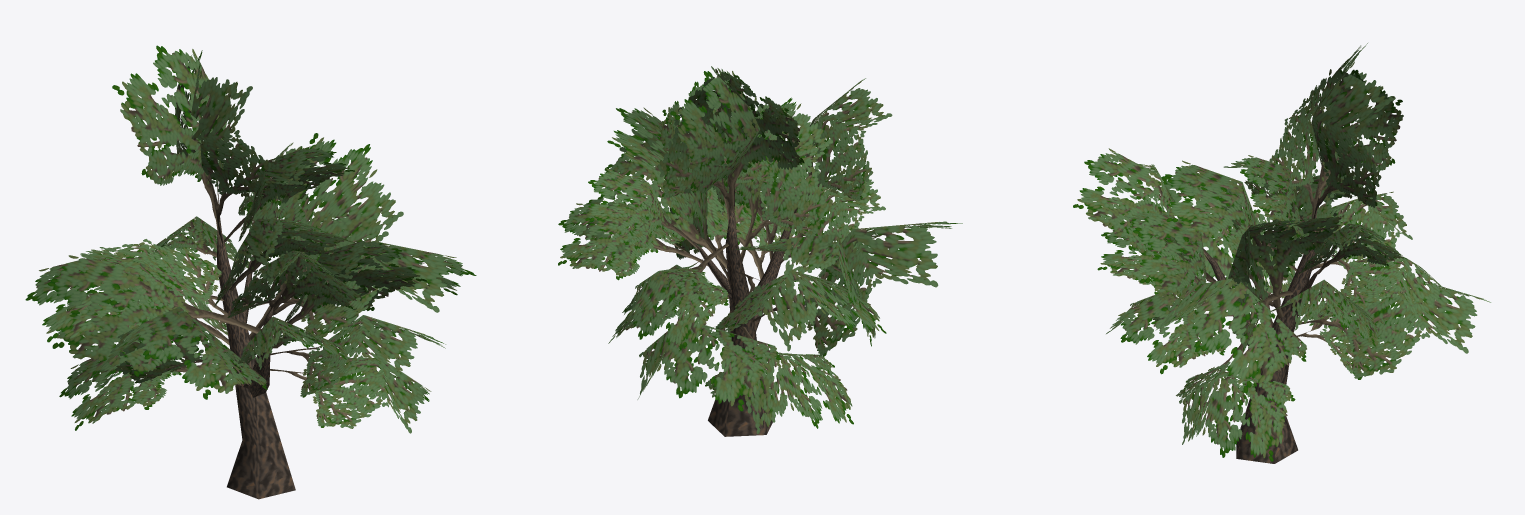
The model's file is Oak.fbx.
3 views of the same model, side by side, from view 1: azimuth 30°, elevation 25°; view 2: azimuth 150°, elevation 25°; view 3: azimuth 270°, elevation 25° (orthographic). The views are drawn at different scales.
Visible parts, largest first — view 1: Oak; view 2: Oak; view 3: Oak.
Boxes of the visible parts, <box> form: Oak: <box>25,45,476,499</box>; Oak: <box>558,66,962,436</box>; Oak: <box>1073,43,1490,463</box>.
Size of the model in its own units: 2675 by 2225 by 2466.
